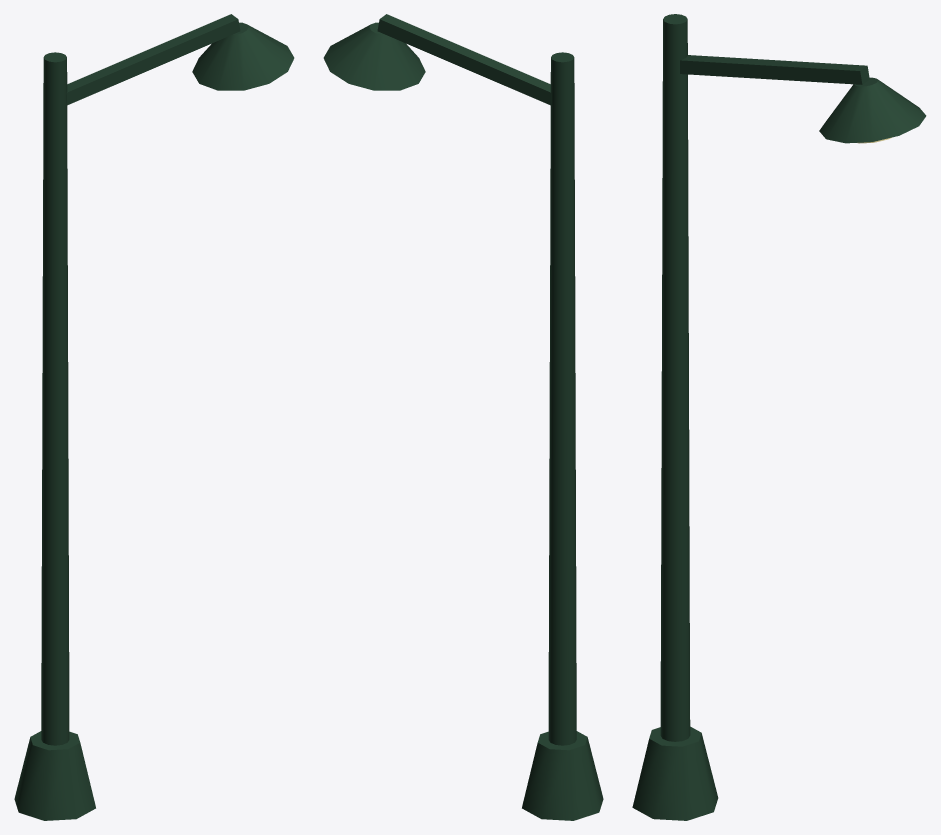
The model's file is lamp_post.gltf.
3 renders of one model, left to right at view 1: azimuth 30°, elevation 25°; view 2: azimuth 150°, elevation 25°; view 3: azimuth 330°, elevation 25°, orthographic. The views are drawn at different scales.
Parts seen in each view (by area): view 1: Pole, Base, Head, Arm; view 2: Pole, Base, Head, Arm; view 3: Pole, Base, Head, Arm.
Part boxes in pixels (x1,y1,x2,y2): Pole: [41, 52, 69, 745]; Base: [14, 731, 95, 820]; Head: [192, 22, 294, 90]; Arm: [66, 14, 240, 105]; Pole: [548, 52, 576, 745]; Base: [522, 731, 603, 820]; Head: [323, 22, 425, 90]; Arm: [377, 14, 551, 105]; Pole: [660, 14, 690, 741]; Base: [632, 726, 718, 820]; Head: [819, 77, 926, 143]; Arm: [680, 55, 869, 84].
Size of the model in its own units: 1.32 by 3.5 by 0.44.
